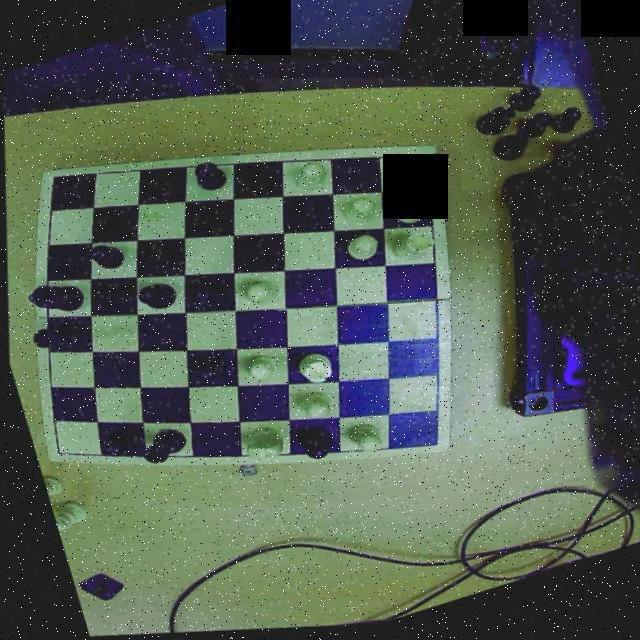chess-table-corners: (412, 428, 448, 462), (407, 146, 441, 180), (36, 164, 72, 194), (40, 435, 70, 465)
